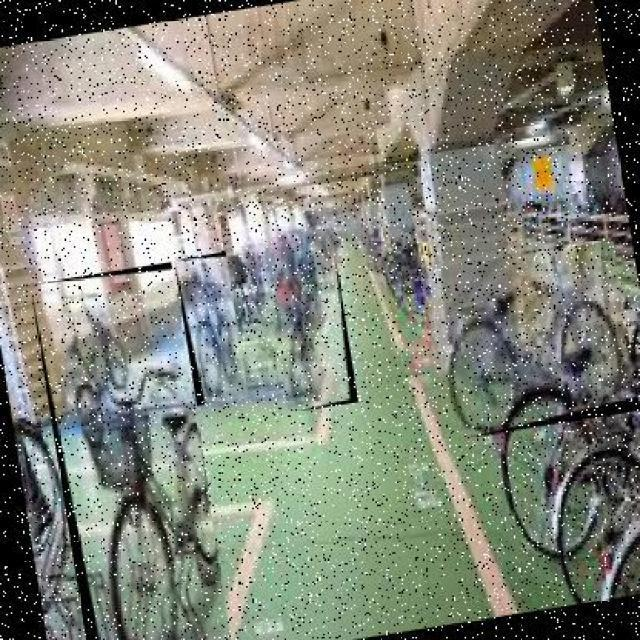bicycle: (31, 261, 237, 640), (423, 240, 640, 443), (262, 227, 361, 415), (174, 252, 251, 408)
